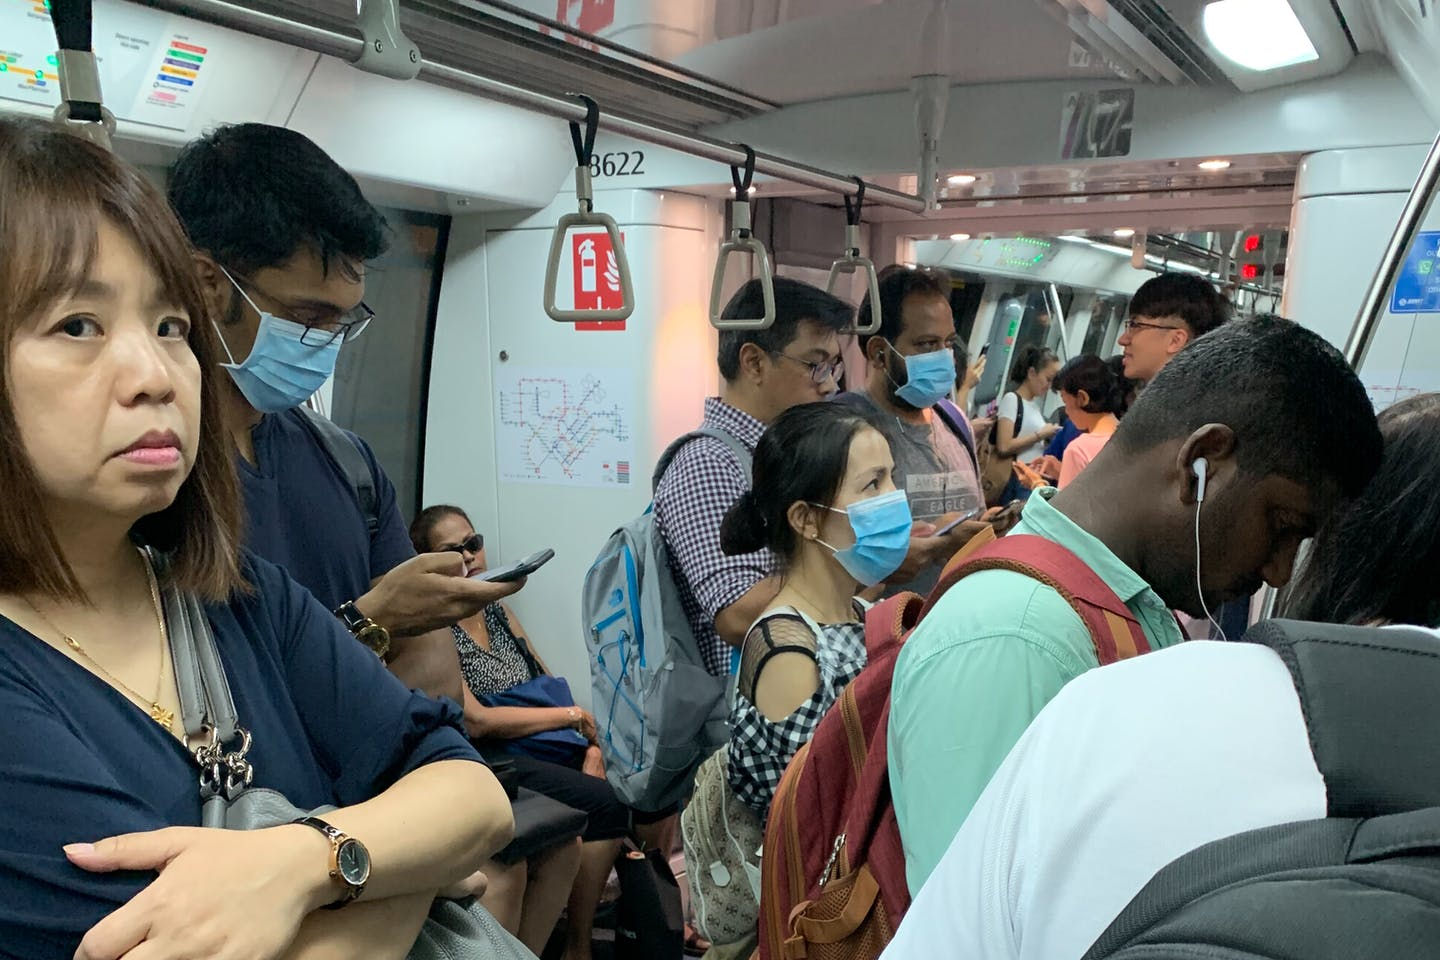with_mask: (242, 247, 346, 402), (840, 459, 908, 567), (901, 322, 951, 418)
without_mask: (48, 246, 191, 496), (788, 334, 836, 404), (454, 522, 491, 591), (1120, 318, 1148, 376)
